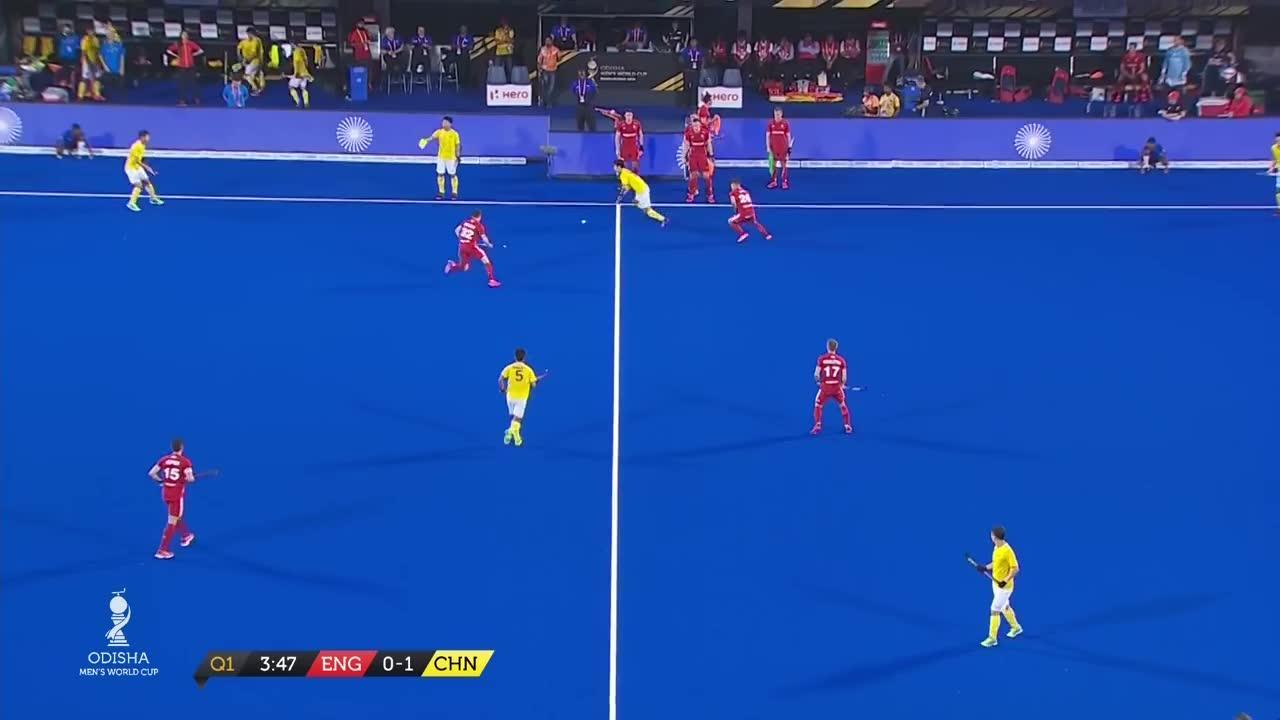ball: (573, 210, 590, 234)
